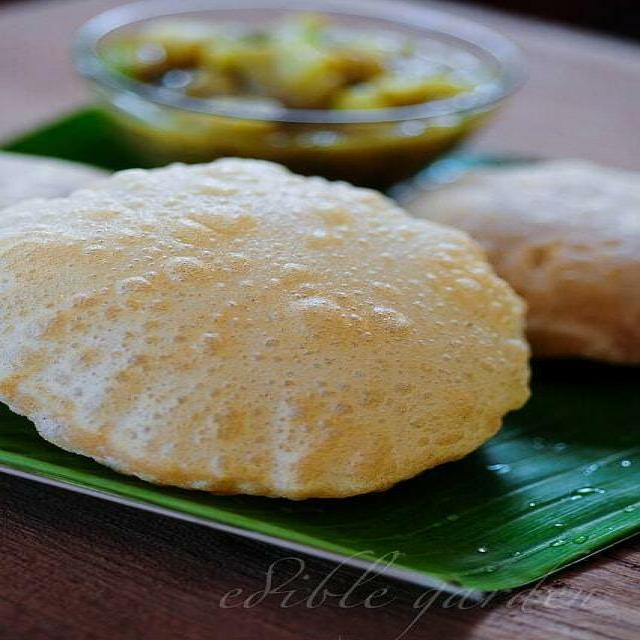poori: (0, 140, 545, 513), (400, 150, 640, 378)
